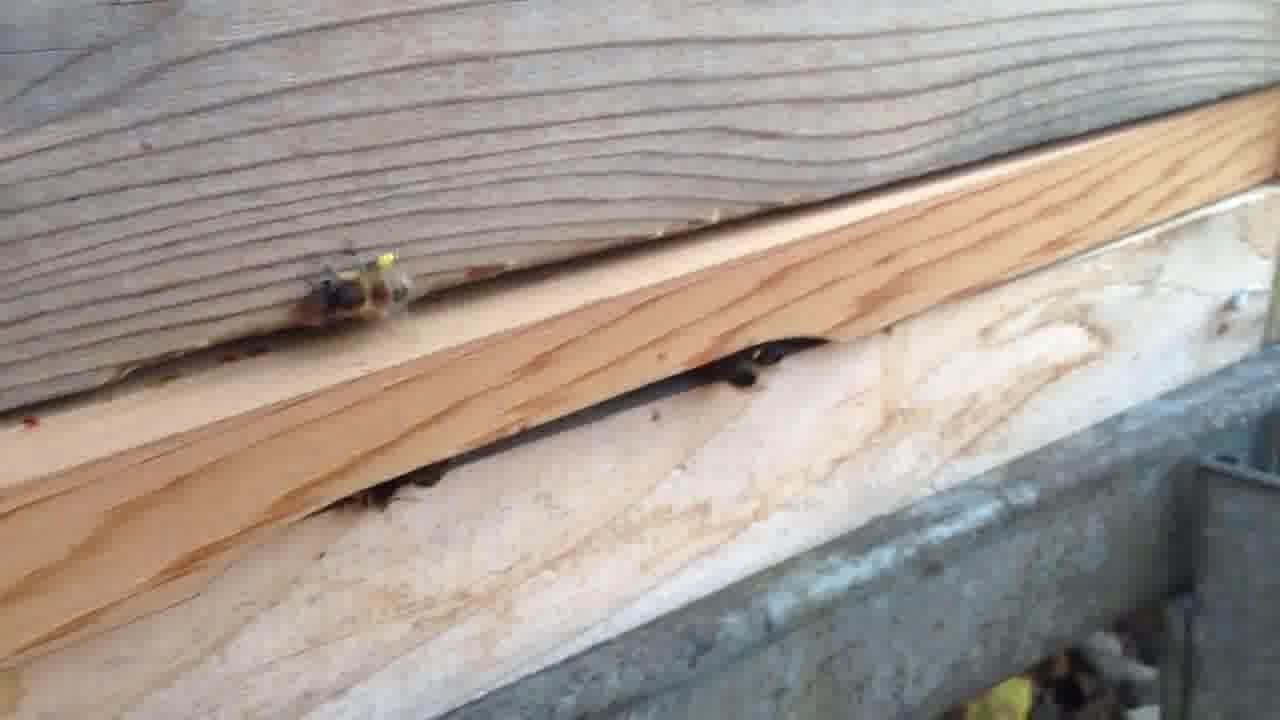pollen: (301, 241, 425, 326)
